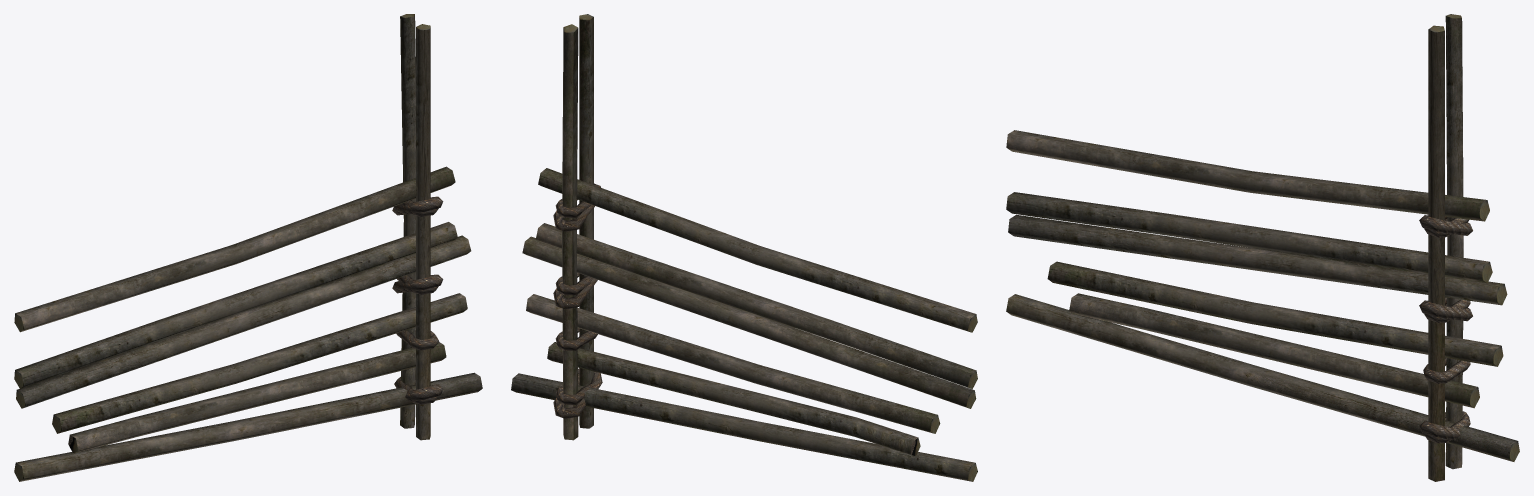
File: 02_05_fence.DAE
The picture shows the model from 3 angles, left to right: view 1: azimuth 30°, elevation 25°; view 2: azimuth 150°, elevation 25°; view 3: azimuth 330°, elevation 25°; orthographic projection. The views are drawn at different scales.
Visible parts, largest first — view 1: Cylinder023; view 2: Cylinder023; view 3: Cylinder023.
Boxes of the visible parts, x1,y1,x2,y2 form: Cylinder023: [14, 14, 482, 481]; Cylinder023: [511, 14, 977, 481]; Cylinder023: [1006, 14, 1519, 481].
Size of the model in its own units: 2.21 by 1.89 by 0.2581.
